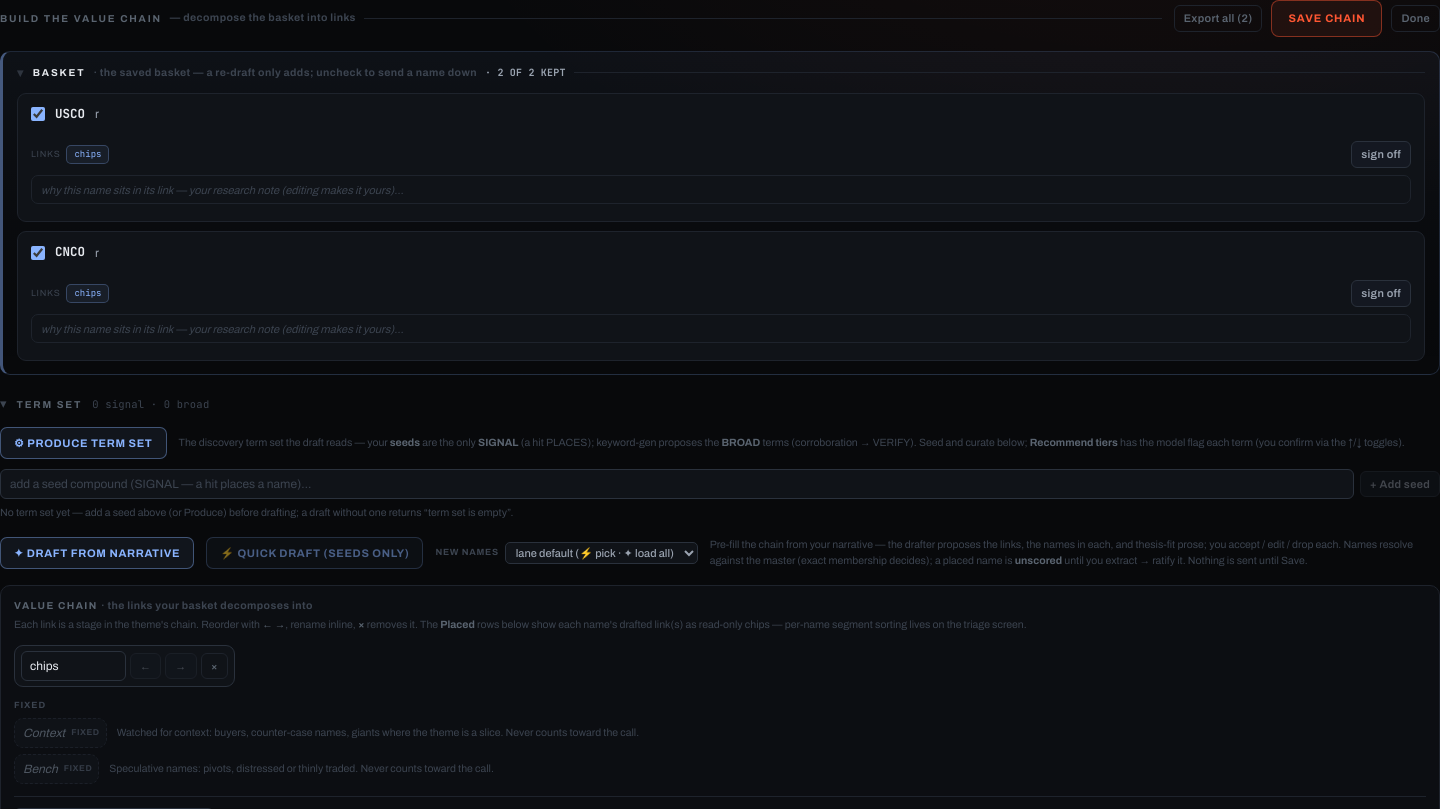
Test case: ChainEditor — the discovery business-type chip (muted) › renders the MUTED leaf chip on a To-Review candidate row off the placement's OWN business_type
Click the button "✦ Draft from narrative": (97, 553) [0,537,194,569]
(page scrolled)
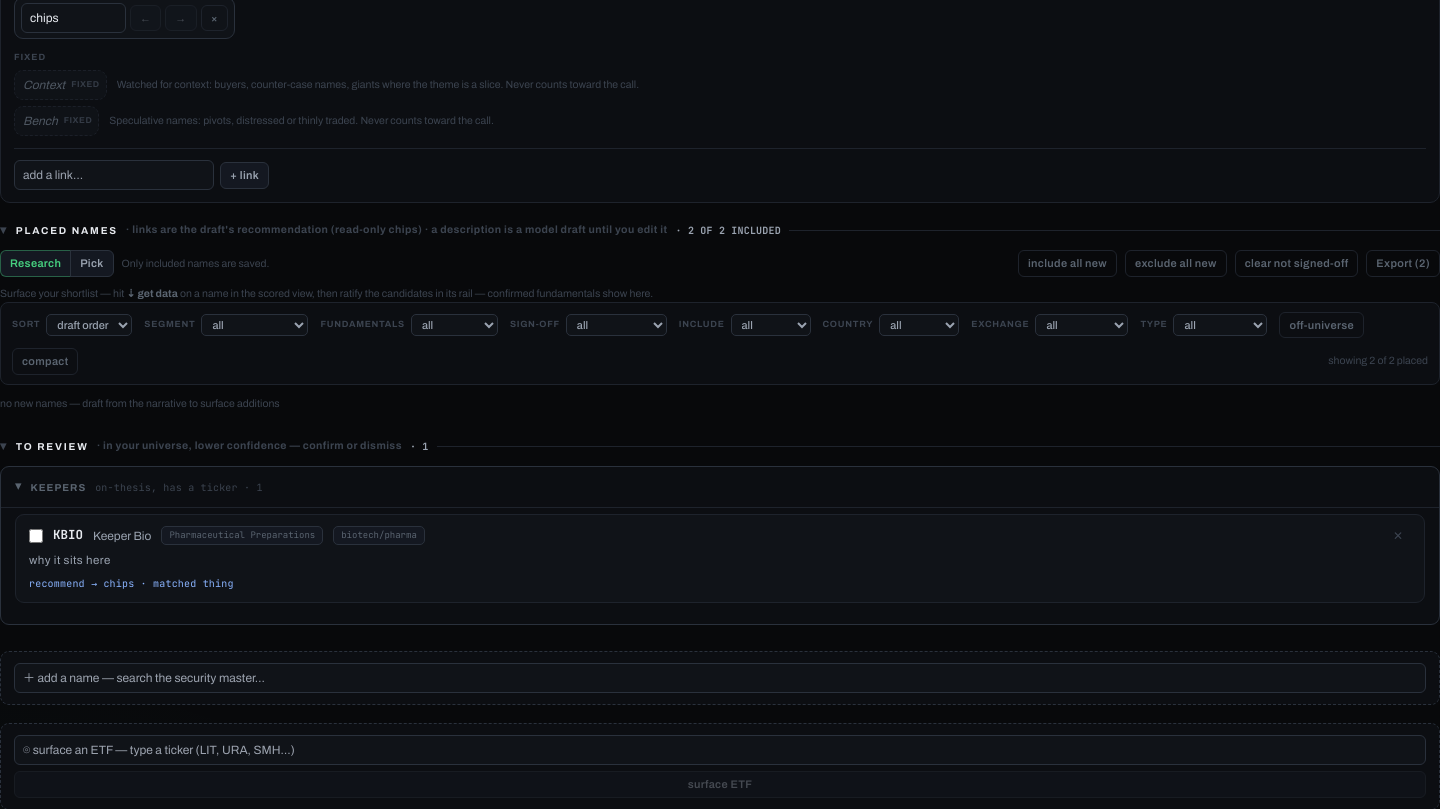
Expected: the checkbox named "add KBIO" is shown, [29,528,43,542]
Expected: the text "biotech/pharma" is shown, [333,526,425,545]
